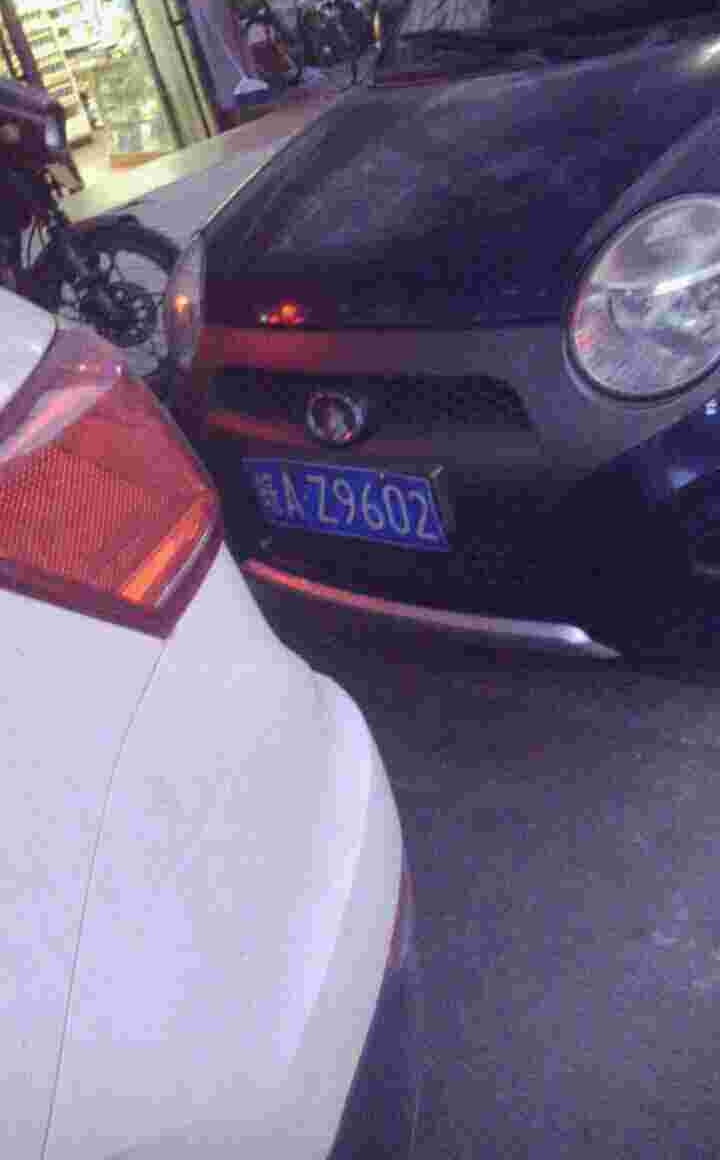car: (247, 458, 454, 554)
